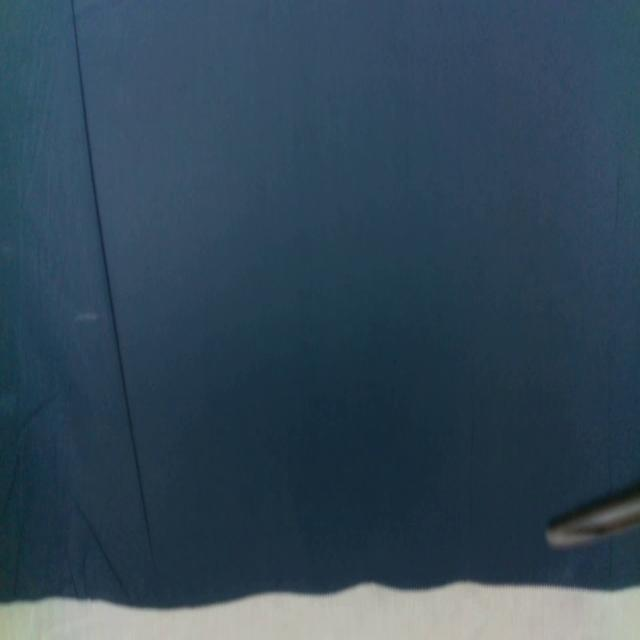crease: (69, 1, 154, 548)
